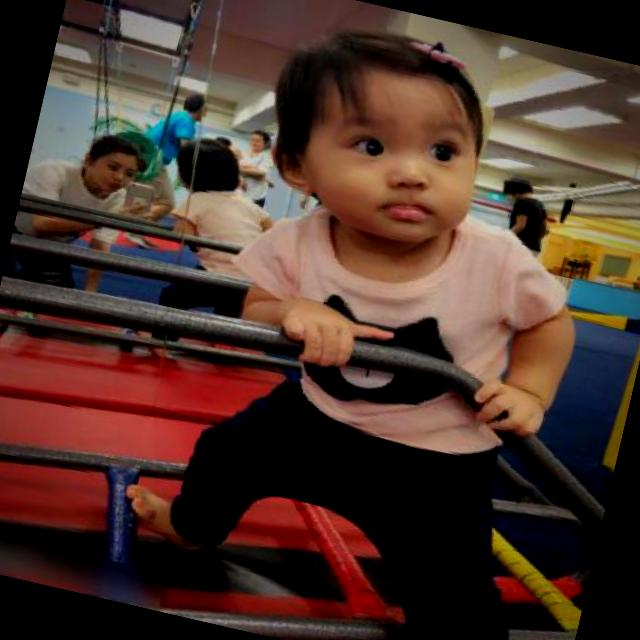Person: (84, 1, 626, 634)
